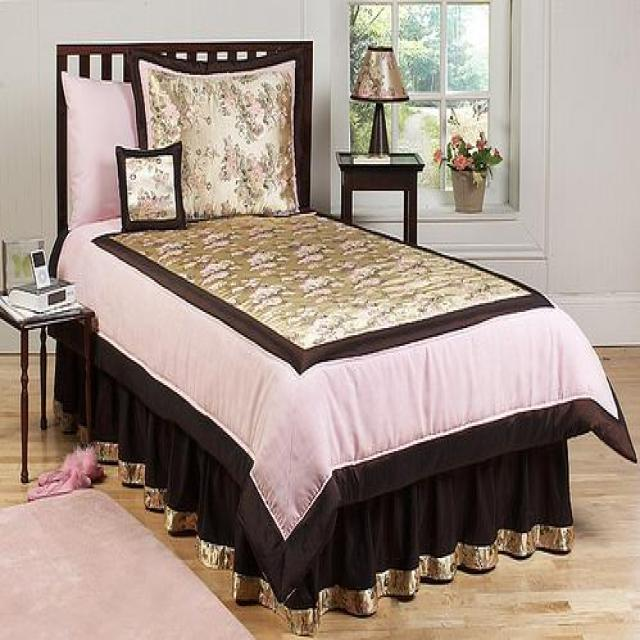bed: (52, 36, 587, 640)
